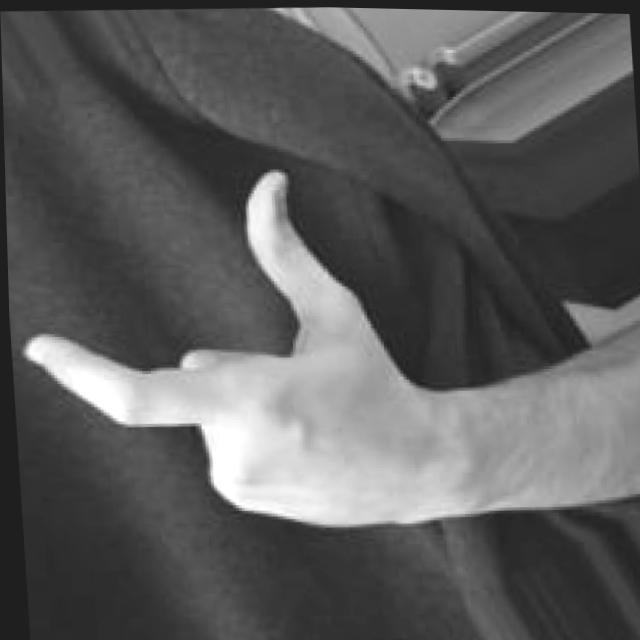U: (4, 145, 465, 554)
